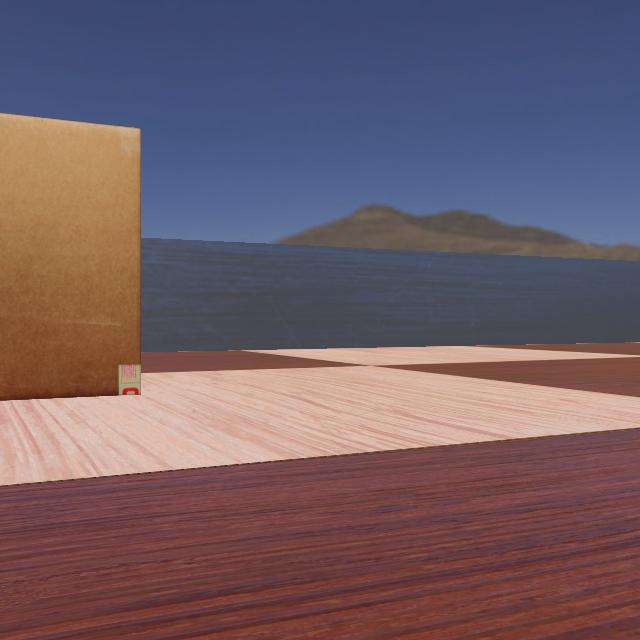cardboard-box: (0, 69, 186, 418)
